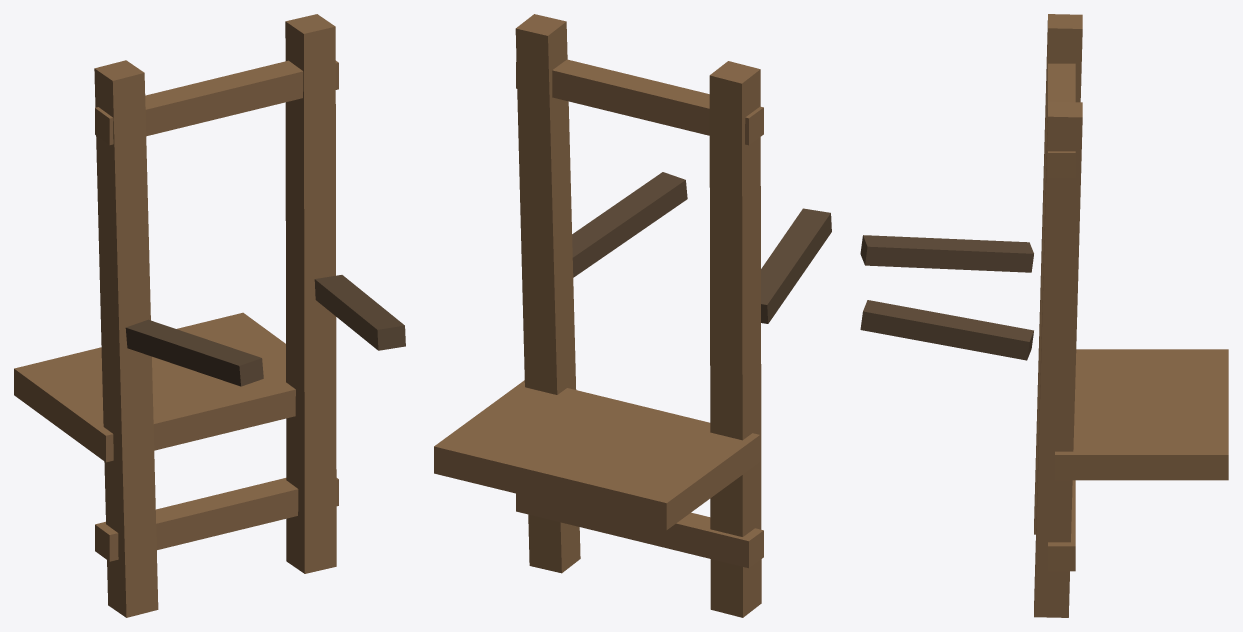
Rendered from villager-packframe.glb.
The picture shows the model from 3 angles, left to right: view 1: azimuth 30°, elevation 25°; view 2: azimuth 150°, elevation 25°; view 3: azimuth 270°, elevation 25°; orthographic projection. The views are drawn at different scales.
Parts seen in each view (by area): view 1: villager-packframe; view 2: villager-packframe; view 3: villager-packframe.
Boxes of the visible parts, x1,y1,x2,y2 form: villager-packframe: (14,14,405,617); villager-packframe: (434,14,831,617); villager-packframe: (860,14,1228,617).
Bounding box in the file's own units: 0.72 × 1.6 × 1.06.
Materials: 1 (1 with a texture image).
